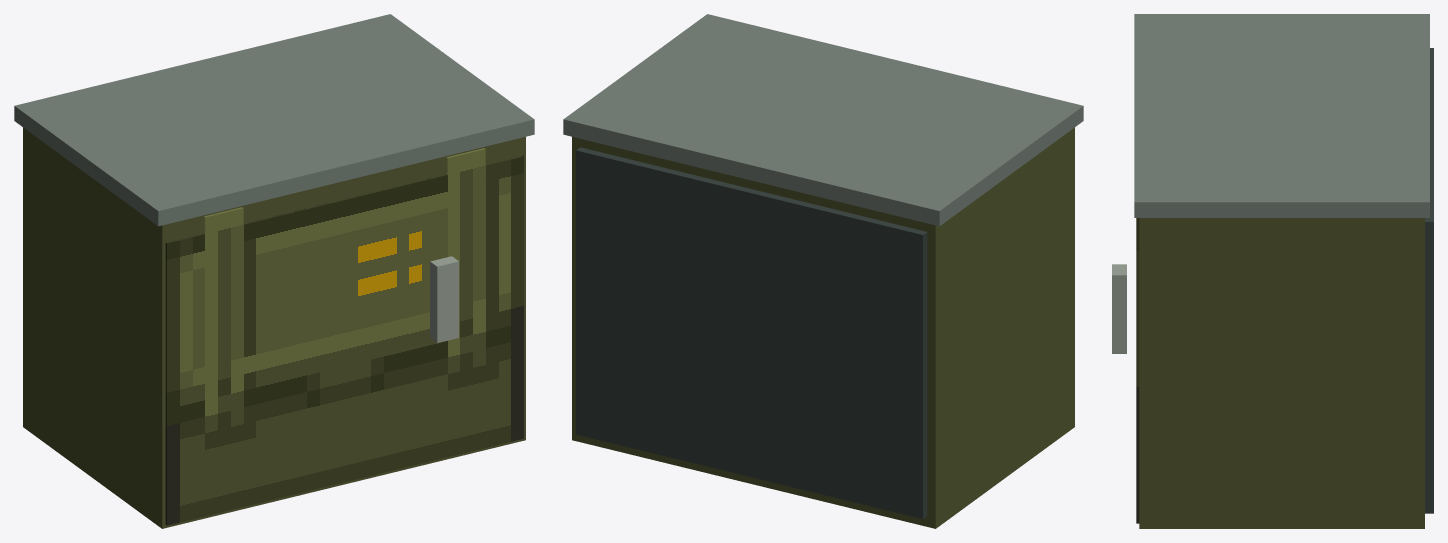
File: CMU3DInteriorRMCCrateGreen.glb
3 views of the same model, side by side, from view 1: azimuth 30°, elevation 25°; view 2: azimuth 150°, elevation 25°; view 3: azimuth 270°, elevation 25° (orthographic). The views are drawn at different scales.
Visible parts, largest first — view 1: source equipment controls, reinforced top, closed equipment casing, door handle; view 2: rear service plate, reinforced top, closed equipment casing; view 3: closed equipment casing, reinforced top, rear service plate, door handle, source equipment controls.
Part boxes in pixels (x1,y1,x2,y2): source equipment controls: (165,148,523,525); reinforced top: (14,14,534,226); closed equipment casing: (23,127,525,528); door handle: (430,256,458,342); rear service plate: (576,147,927,518); reinforced top: (563,14,1083,226); closed equipment casing: (572,127,1074,528); closed equipment casing: (1139,218,1424,528); reinforced top: (1134,14,1429,217); rear service plate: (1425,48,1433,513); door handle: (1112,264,1126,353); source equipment controls: (1136,218,1139,523).
Size of the model in its own units: 0.905 by 0.7381 by 0.653.
Materials: 5 (1 with a texture image).
